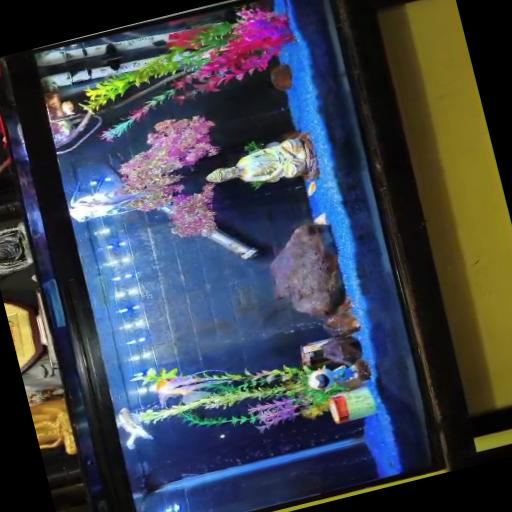Fish: (69, 178, 138, 221), (156, 374, 226, 404), (117, 407, 153, 448), (61, 100, 74, 114), (314, 212, 327, 223), (308, 181, 317, 194)
